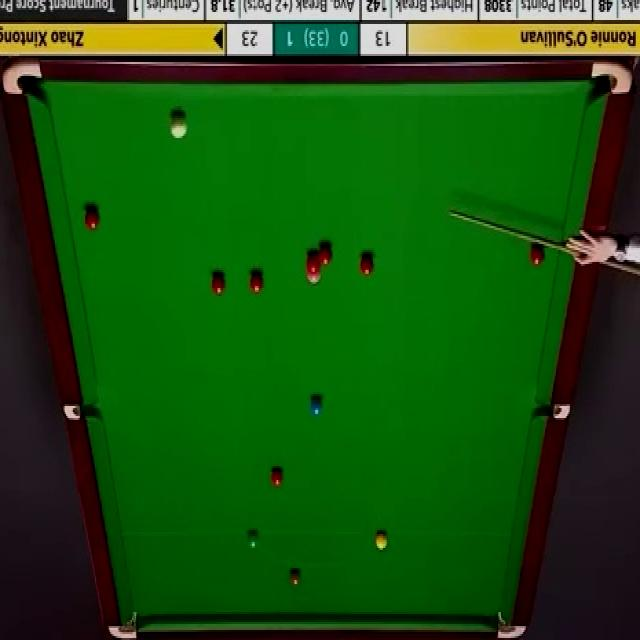blue-ball: (310, 396, 325, 418)
brown-ball: (289, 568, 302, 588)
green-ball: (247, 530, 260, 551)
pink-ball: (306, 270, 322, 284)
red-ball: (529, 242, 545, 268), (269, 466, 286, 488), (83, 207, 100, 229), (249, 271, 265, 294), (305, 252, 322, 273), (360, 254, 375, 276), (212, 272, 226, 295), (318, 244, 332, 264)
white-ball: (169, 110, 188, 140)
yellow-ball: (375, 531, 388, 552)
